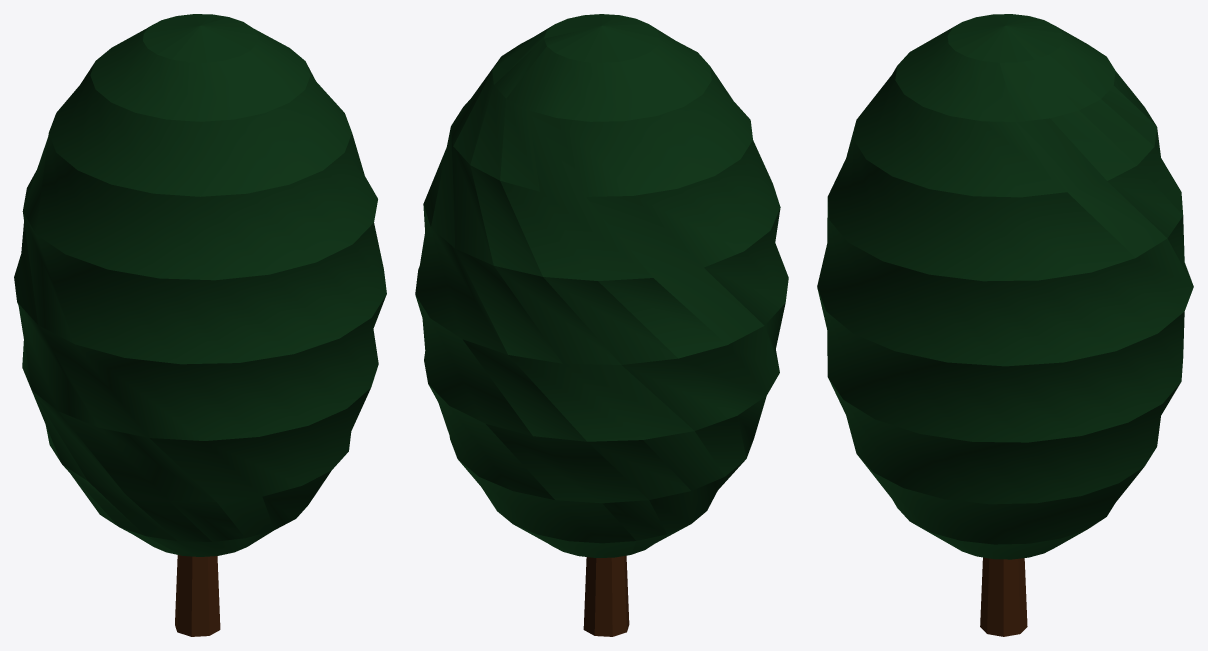
The model's file is Bush_c_a_01.fbx.
3 renders of one model, left to right at view 1: azimuth 30°, elevation 25°; view 2: azimuth 150°, elevation 25°; view 3: azimuth 270°, elevation 25°, orthographic.
Parts seen in each view (by area): view 1: Bush_c_a_01_LOD0; view 2: Bush_c_a_01_LOD0; view 3: Bush_c_a_01_LOD0.
Boxes of the visible parts, x1,y1,x2,y2 form: Bush_c_a_01_LOD0: (14, 14, 386, 636); Bush_c_a_01_LOD0: (415, 14, 788, 636); Bush_c_a_01_LOD0: (817, 14, 1193, 636).
Size of what is drawn, in the model's own units: 20.56 by 36.31 by 20.56.
